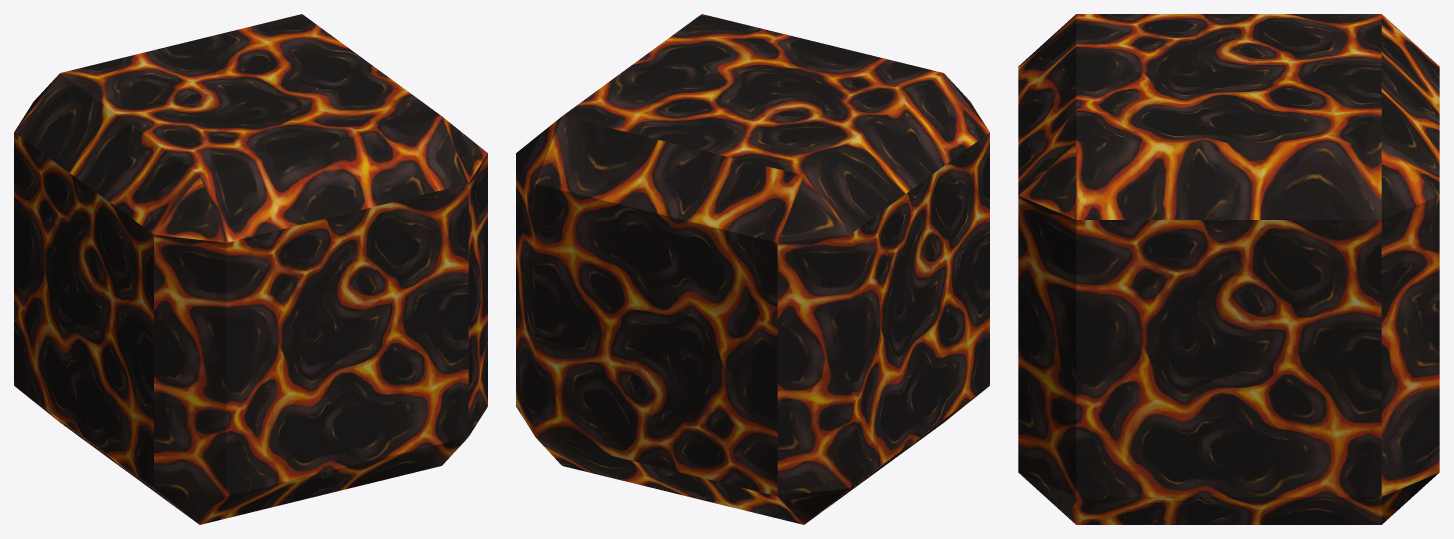
The model's file is stage6_Breakable.gltf.
3 views of the same model, side by side, from view 1: azimuth 30°, elevation 25°; view 2: azimuth 150°, elevation 25°; view 3: azimuth 270°, elevation 25° (orthographic). The views are drawn at different scales.
Parts seen in each view (by area): view 1: Cube; view 2: Cube; view 3: Cube.
Boxes of the visible parts, x1,y1,x2,y2 form: Cube: (14, 14, 487, 524); Cube: (516, 14, 989, 524); Cube: (1018, 14, 1439, 524).
Size of the model in its own units: 1.85 by 1.85 by 1.85.
1 material, 1 textured.
